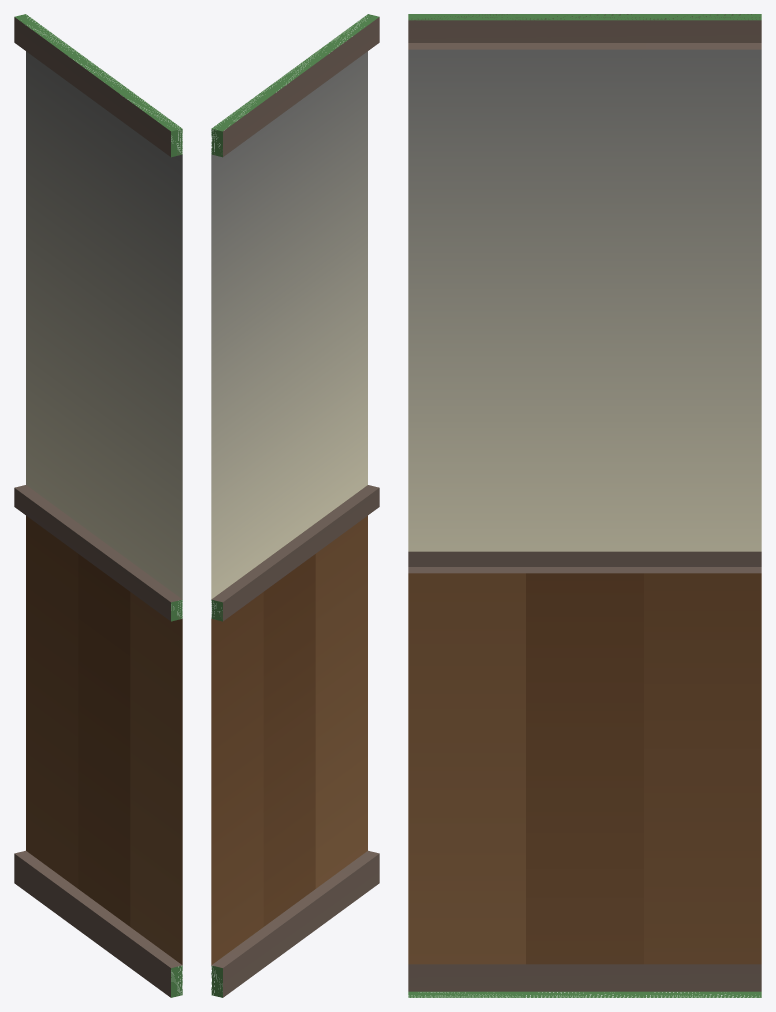
File: B01_wall_2.fbx
The picture shows the model from 3 angles, left to right: view 1: azimuth 30°, elevation 25°; view 2: azimuth 150°, elevation 25°; view 3: azimuth 270°, elevation 25°; orthographic projection. The views are drawn at different scales.
Visible parts, largest first — view 1: B01_wall_2; view 2: B01_wall_2; view 3: B01_wall_2.
Part boxes in pixels (<box>): B01_wall_2: <box>14,14,182,997</box>; B01_wall_2: <box>211,14,379,997</box>; B01_wall_2: <box>408,14,761,997</box>.
Size of the model in its own units: 4.27 by 305 by 100.
